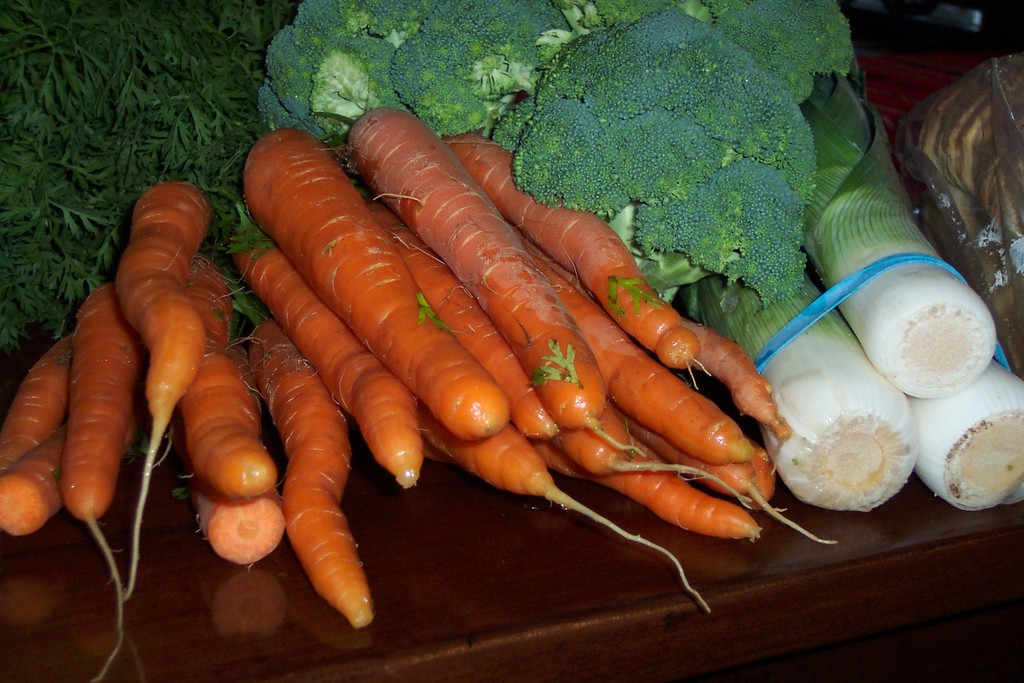Carrot: (0, 104, 840, 683)
